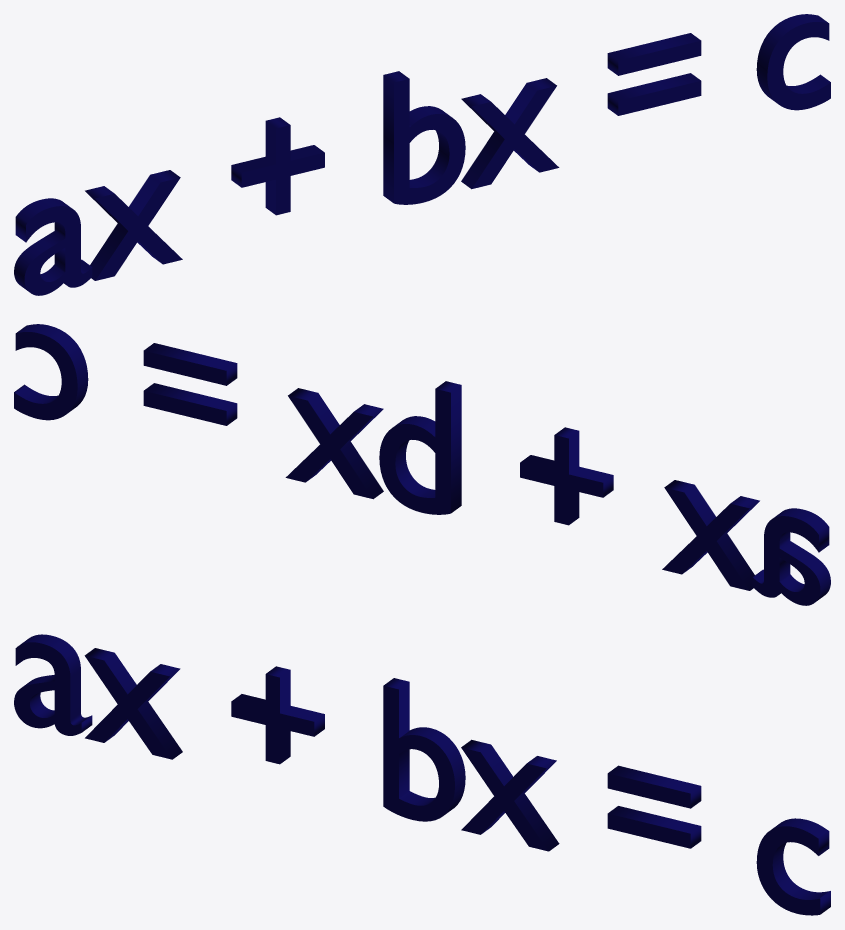
The picture shows the model from 3 angles, top to bottom: view 1: azimuth 30°, elevation 25°; view 2: azimuth 150°, elevation 25°; view 3: azimuth 330°, elevation 25°; orthographic projection.
Visible parts, largest first — view 1: Text; view 2: Text; view 3: Text.
Part boxes in pixels (x1=…): Text: x1=14, y1=14, x2=830, y2=295; Text: x1=14, y1=324, x2=830, y2=605; Text: x1=14, y1=634, x2=830, y2=915.
Bounding box in the file's own units: 4.58 × 0.691 × 0.104.
